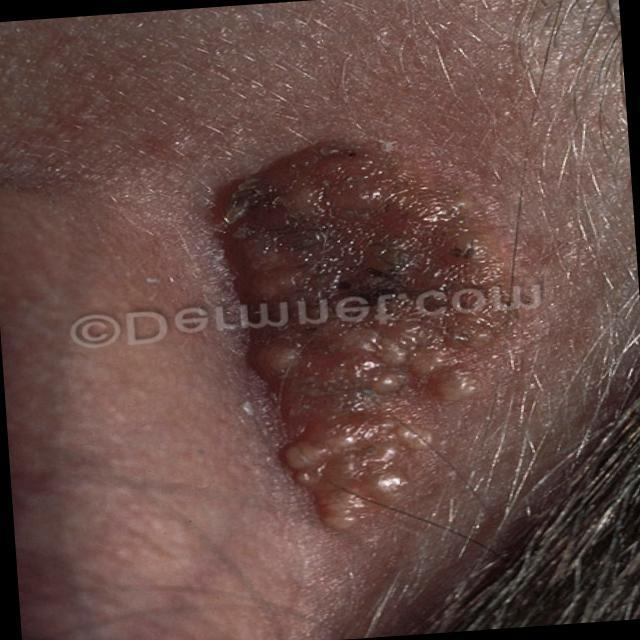Eczema: (212, 135, 493, 528)
